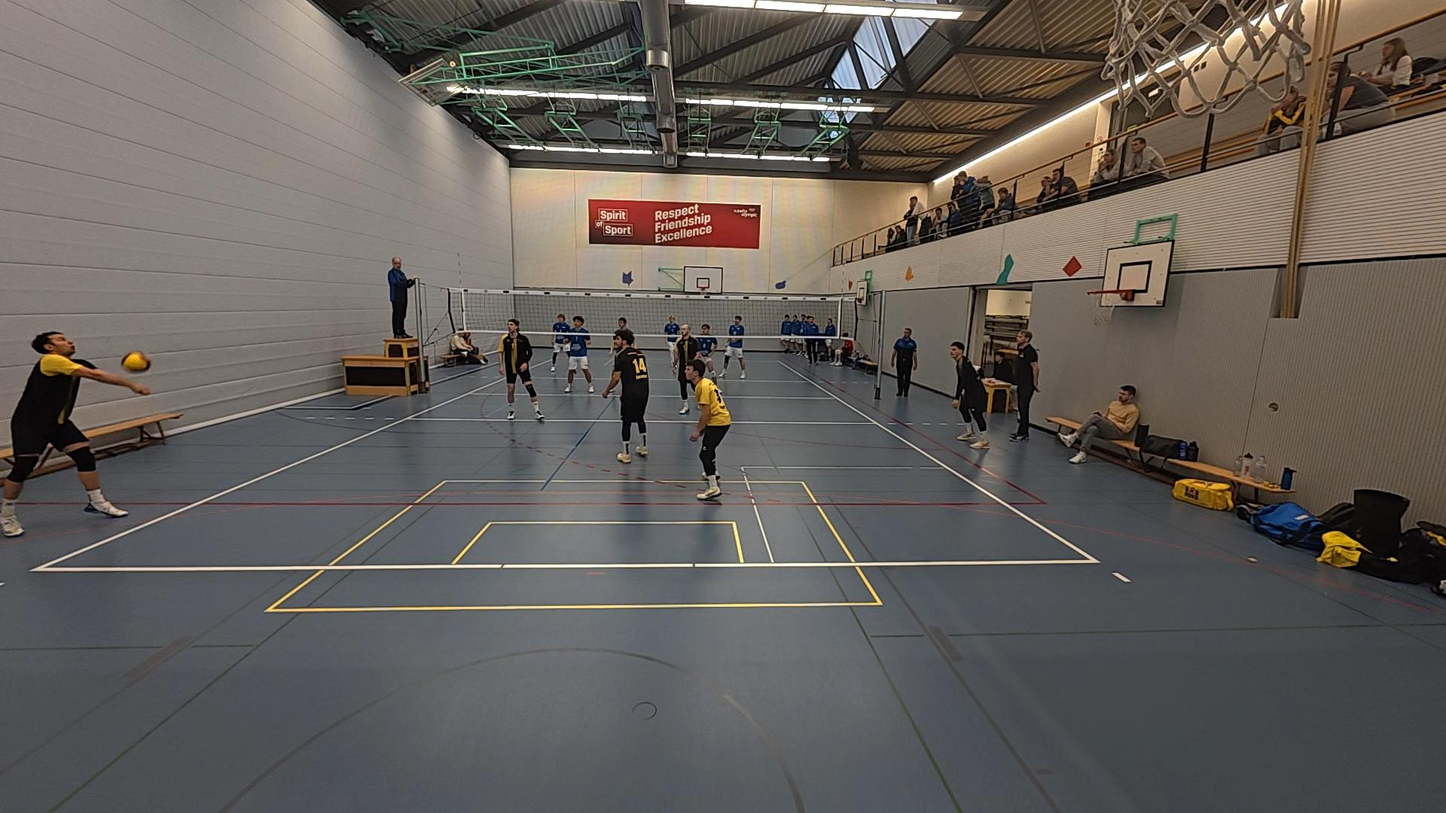Player: (682, 361, 731, 501), (603, 334, 650, 463), (498, 319, 545, 422), (951, 342, 992, 448), (561, 315, 596, 393), (672, 323, 700, 413), (721, 315, 748, 380), (691, 323, 720, 382), (547, 312, 571, 368), (660, 313, 682, 367), (611, 316, 635, 354)
Set: (0, 321, 151, 539)
ball: (122, 352, 149, 372)
